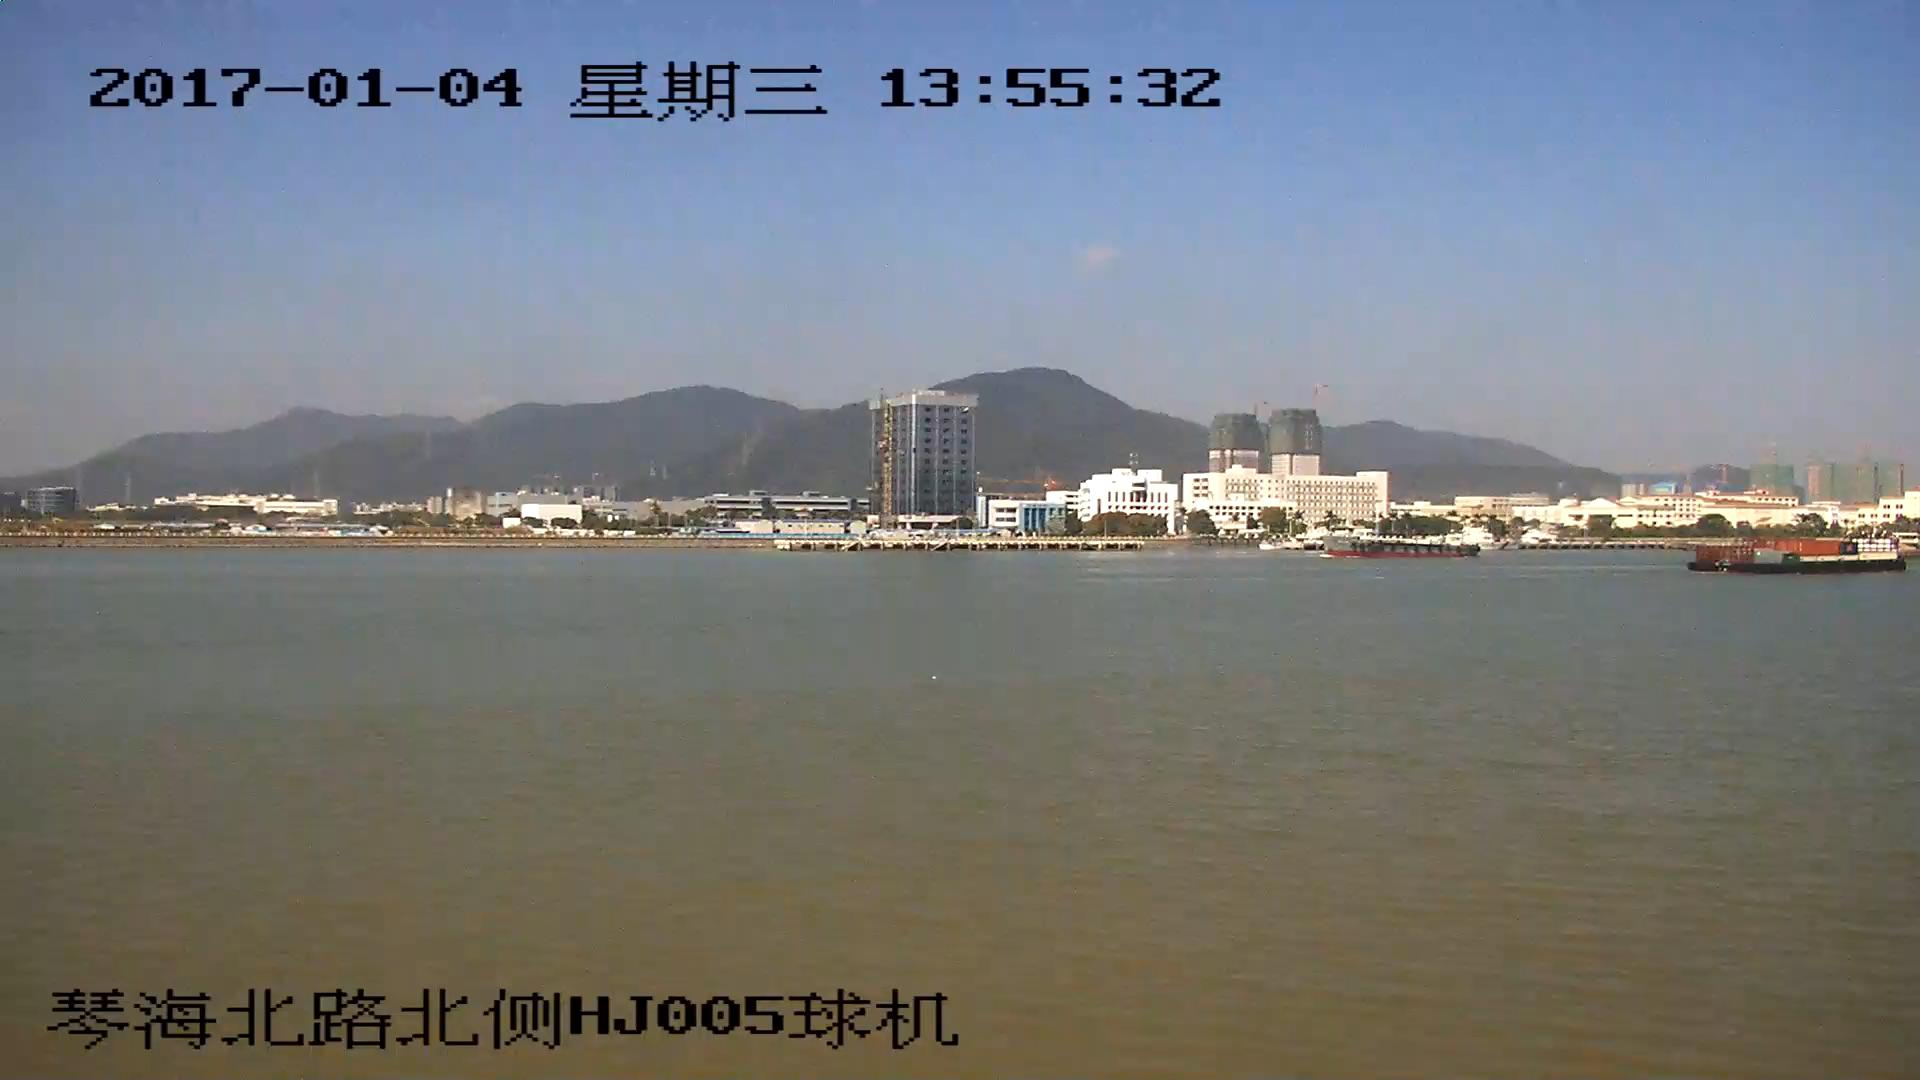container ship: (1691, 533, 1903, 573)
general cargo ship: (1328, 528, 1473, 558)
